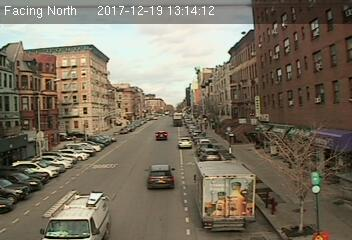car: (144, 164, 175, 190), (198, 150, 220, 162), (178, 136, 192, 148), (154, 130, 168, 141)
truck: (194, 160, 257, 235), (38, 190, 113, 240)
